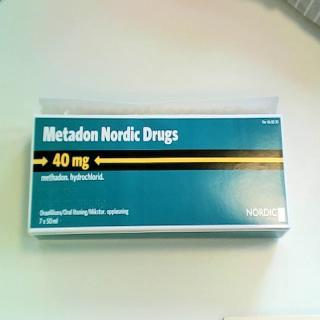metadon_hydrochlorid40mg: (27, 95, 293, 242)
